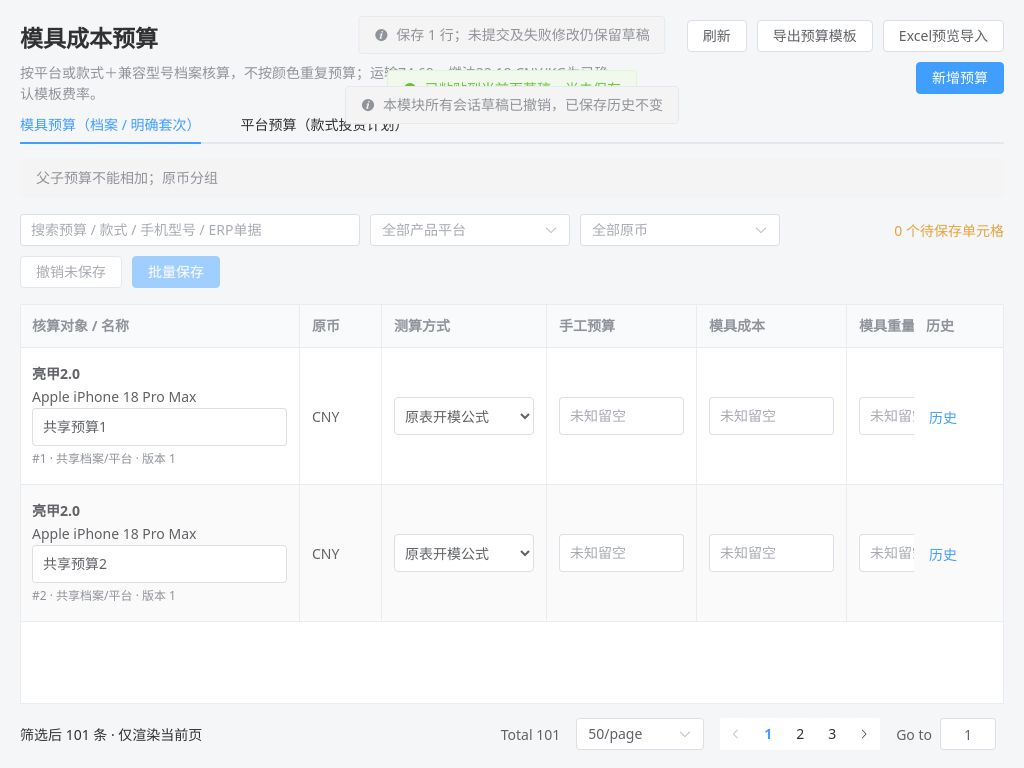
wide shared budget and expense ledger › failure rows retain drafts and conflicts expose current and attempted values
The width and height of the screenshot is (1024, 768).
Type "20" into the 2nd field with placeholder "未知留空" at (772, 416), box [720,401,823,431]
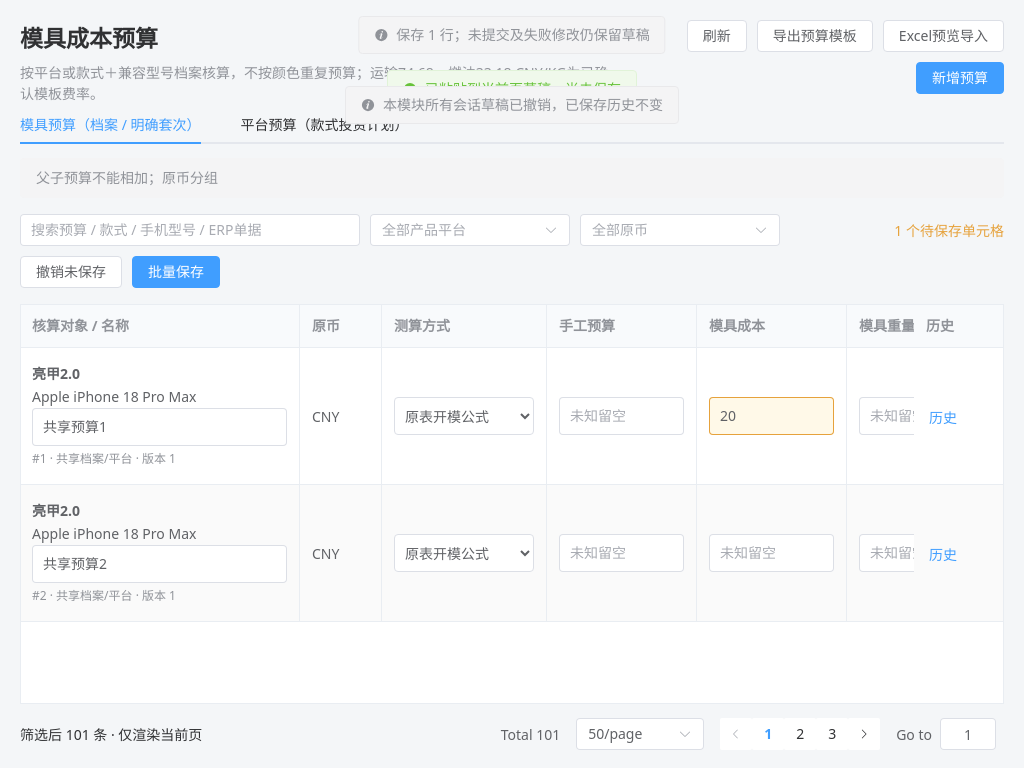
Click the button "批量保存" at (176, 272), box [132,256,220,288]
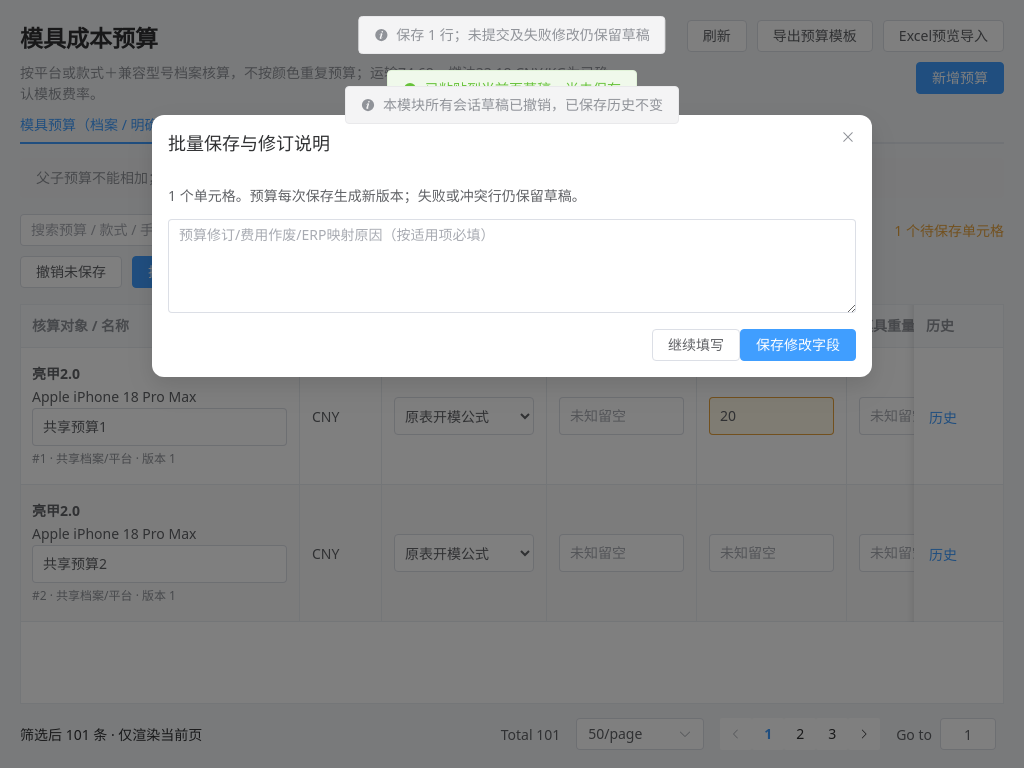
Type "核对" into the text box with placeholder "预算修订/费用作废/ERP映射原因（按适用项必填）" at (512, 266), box [168,219,856,313]
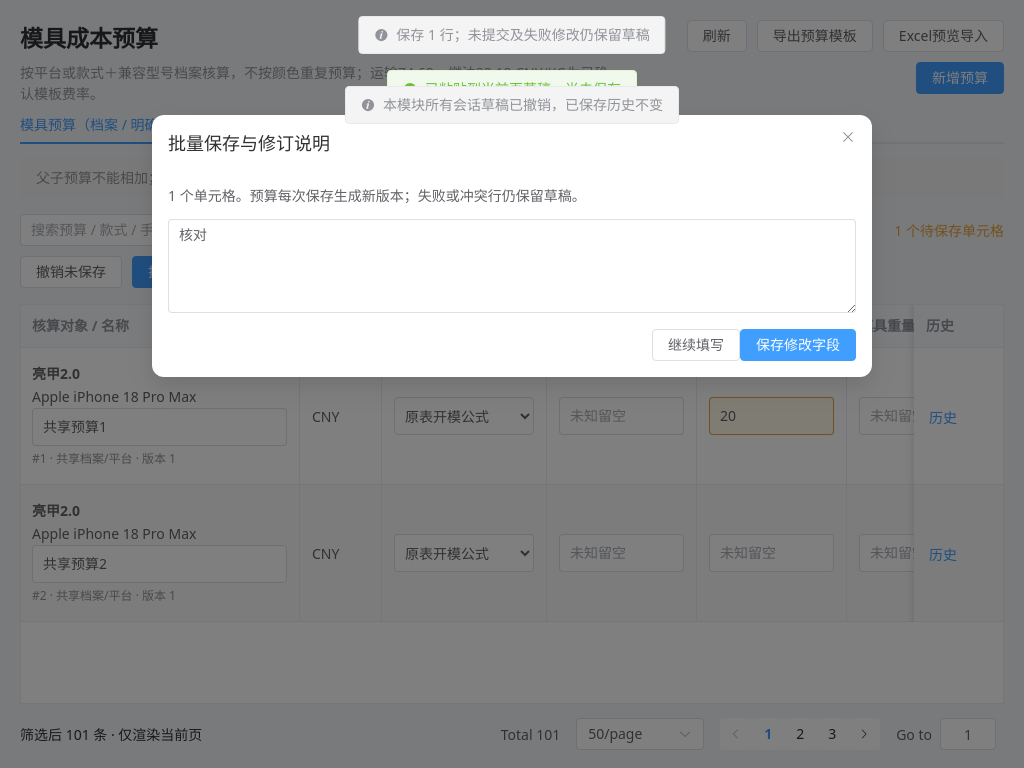
Click the button "保存修改字段" at (798, 345), box [740,329,856,361]
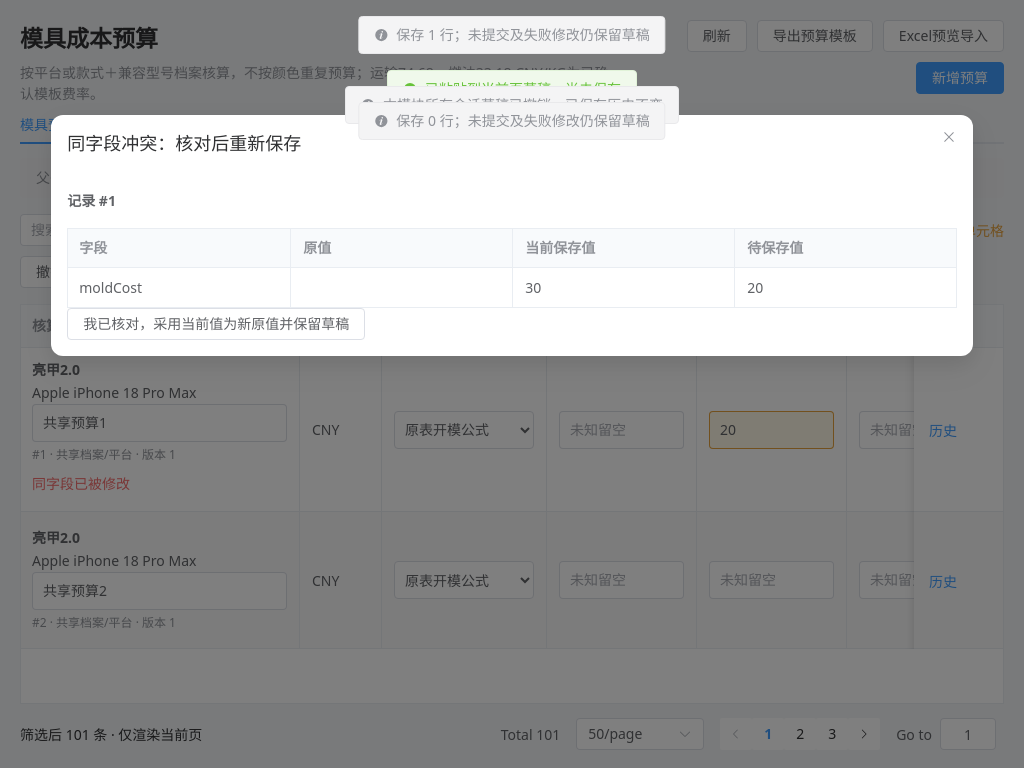
Now the text "1 个待保存单元格" is shown, box [894,220,1004,240]
Now the text "当前保存值" is shown, box [525,238,595,257]
Now the text "待保存值" is shown, box [747,238,803,257]
Click the button "我已核对，采用当前值为新原值并保留草稿" at (216, 324), box [67,308,365,340]
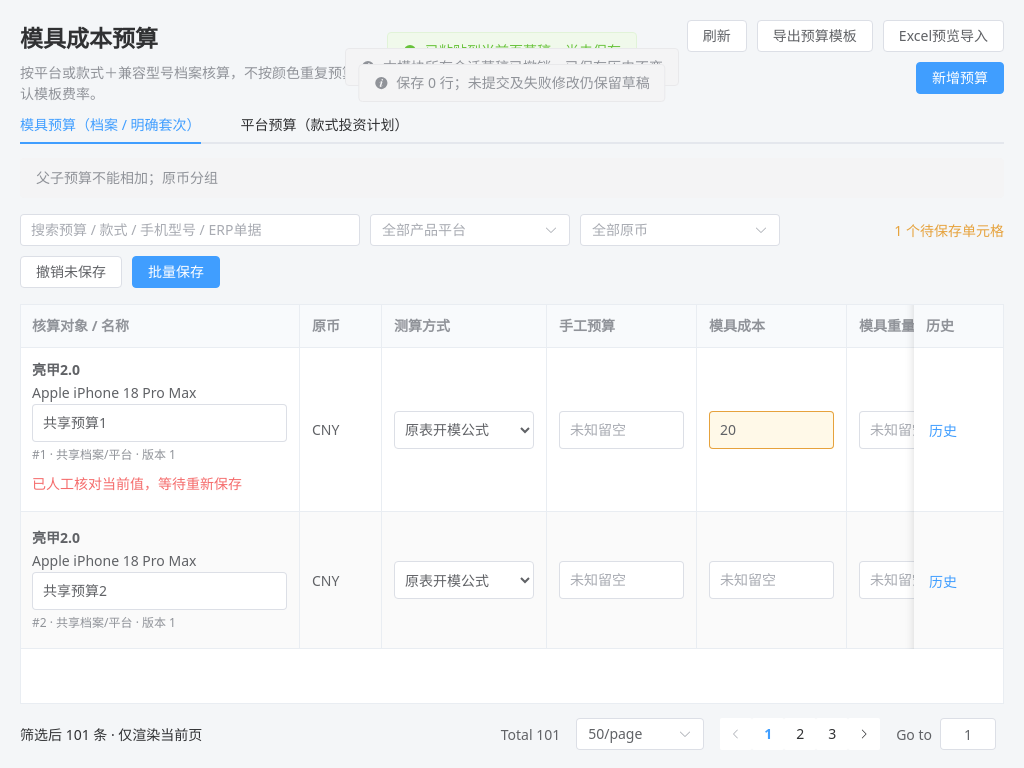
Now the text "等待重新保存" is shown, box [32,474,242,493]
